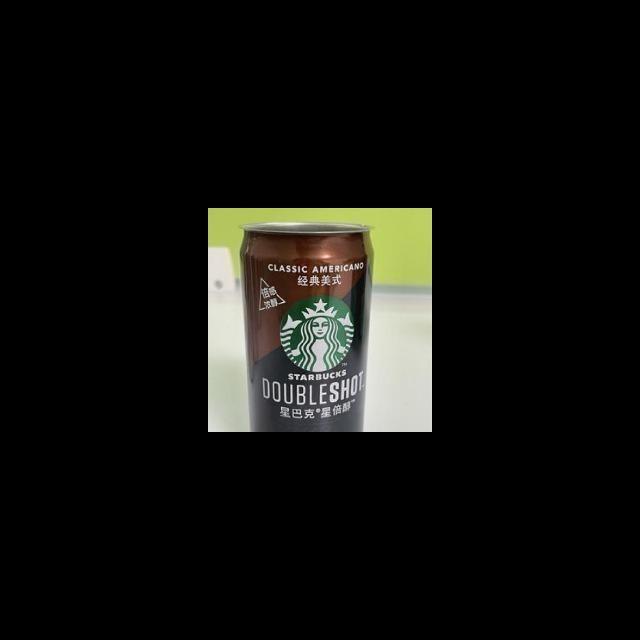metal: (235, 217, 377, 432)
